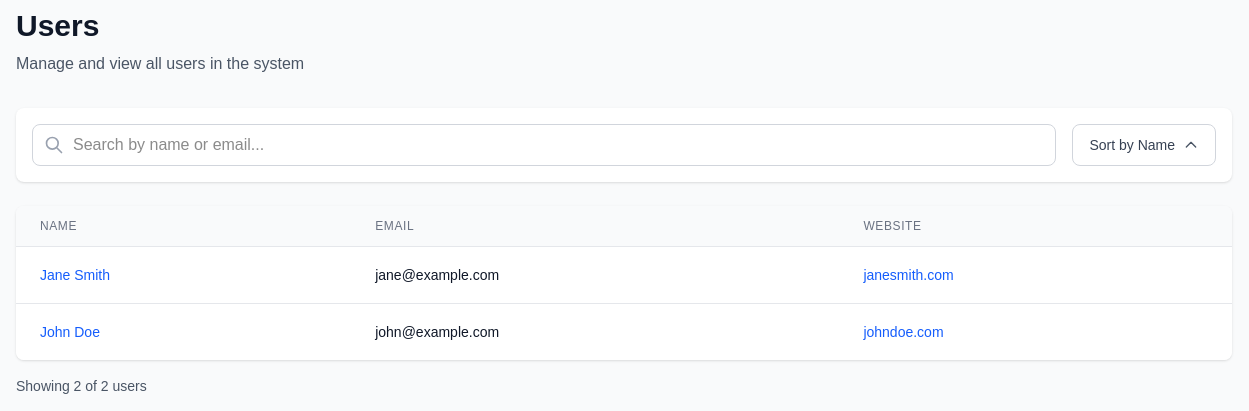
it: UsersPage › filters users by search term
The width and height of the screenshot is (1249, 411).
Expected: the link "John Doe" is shown, left=40, top=324, right=100, bottom=340
Type "Jane" into the field with placeholder "Search by name or email..." at (544, 145), box left=32, top=124, right=1056, bottom=166
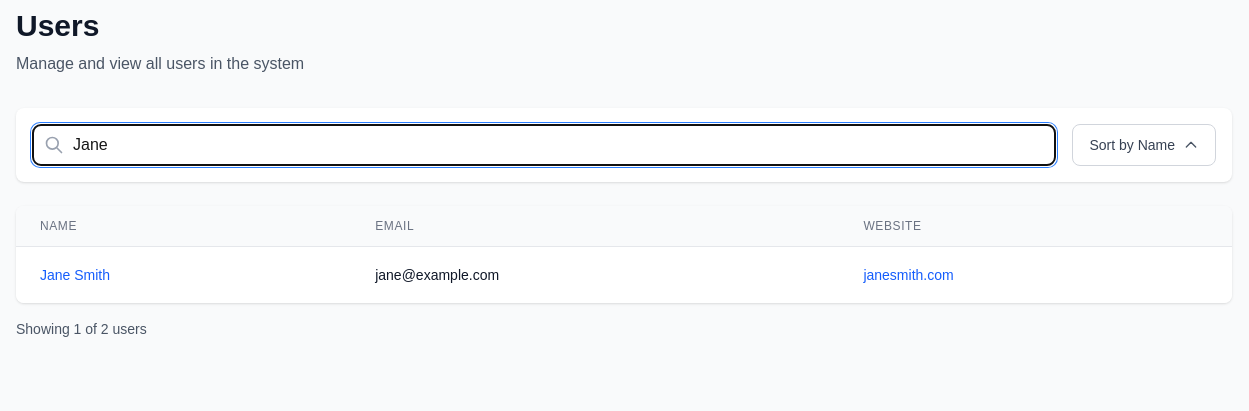
Expected: the link "Jane Smith" is shown, left=40, top=267, right=110, bottom=283
Now the link "John Doe" is gone
